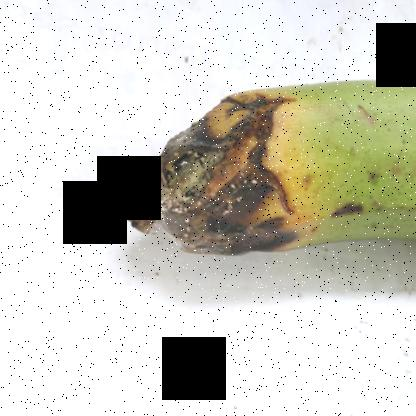rotten: (117, 53, 332, 293)
